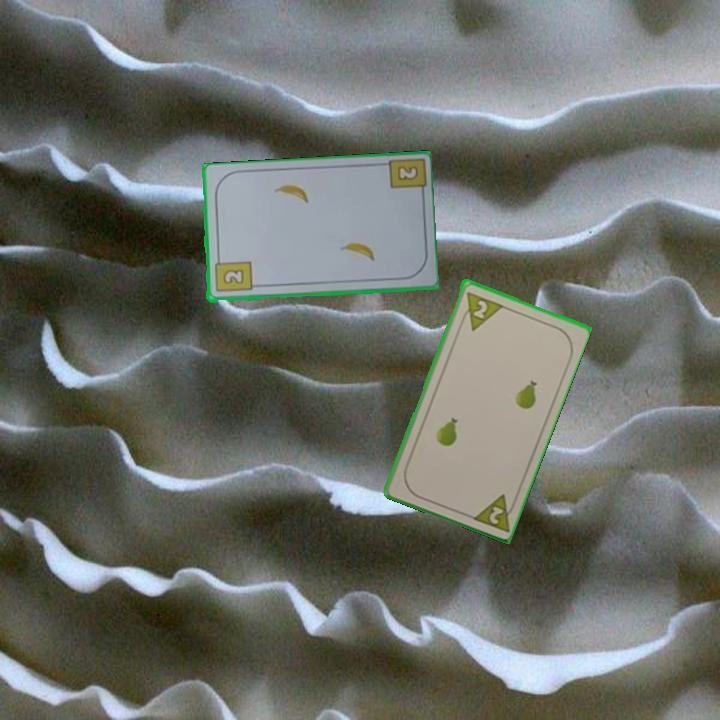2b: (211, 253, 254, 295), (394, 162, 419, 184)
2p: (467, 490, 520, 535), (469, 296, 490, 321)
